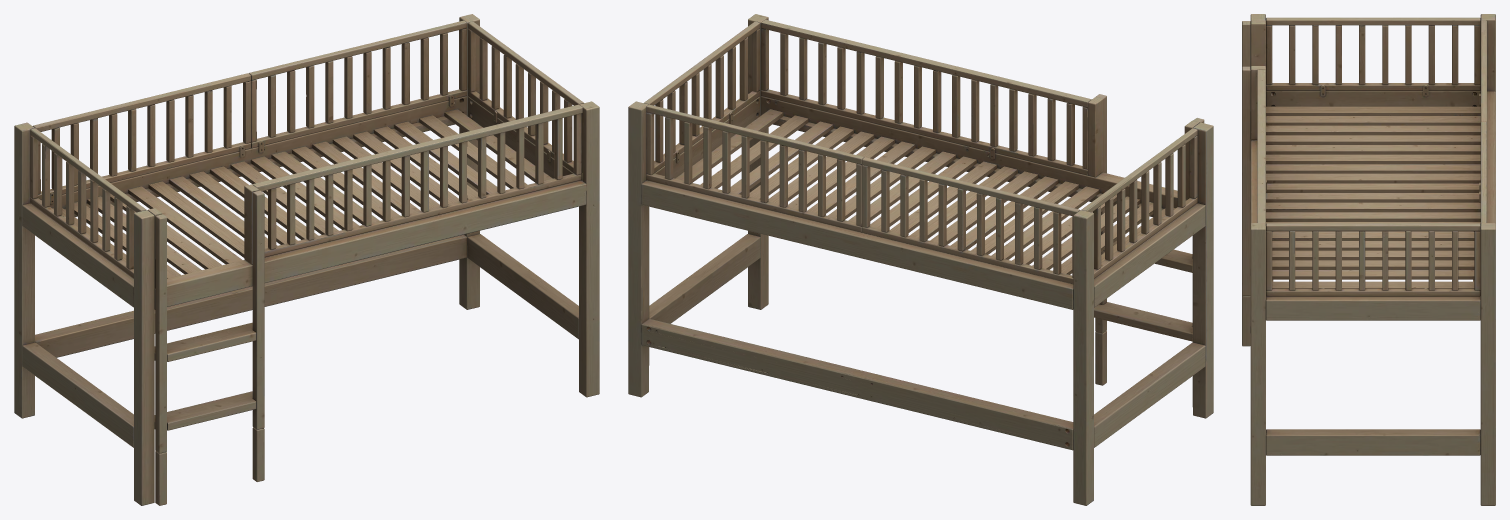
3 renders of one model, left to right at view 1: azimuth 30°, elevation 25°; view 2: azimuth 150°, elevation 25°; view 3: azimuth 270°, elevation 25°, orthographic. The views are drawn at different scales.
Visible parts, largest first — view 1: 190x80; view 2: 190x80; view 3: 190x80.
Part boxes in pixels (bbox=[...]): 190x80: bbox=[14, 14, 599, 505]; 190x80: bbox=[628, 14, 1213, 505]; 190x80: bbox=[1242, 14, 1495, 505].
Bounding box in the file's own units: 2.02 × 1.21 × 1.
1 material, 1 textured.
